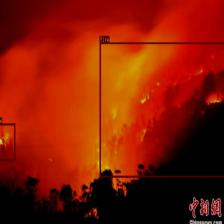fire: (100, 42, 224, 177), (0, 123, 15, 161)
